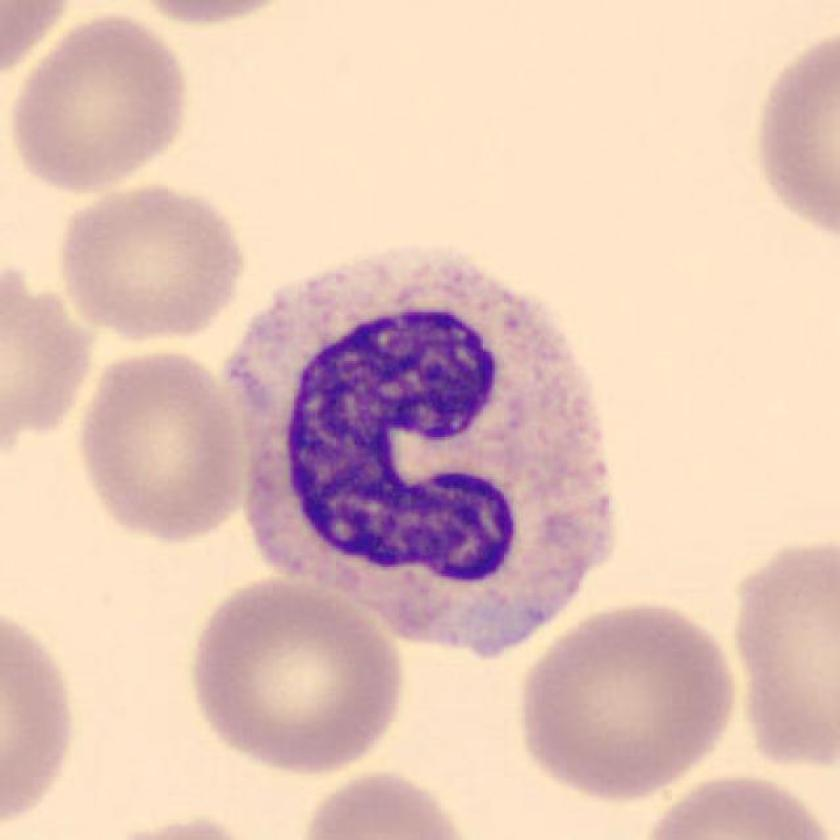neutrophil: (223, 250, 614, 656)
